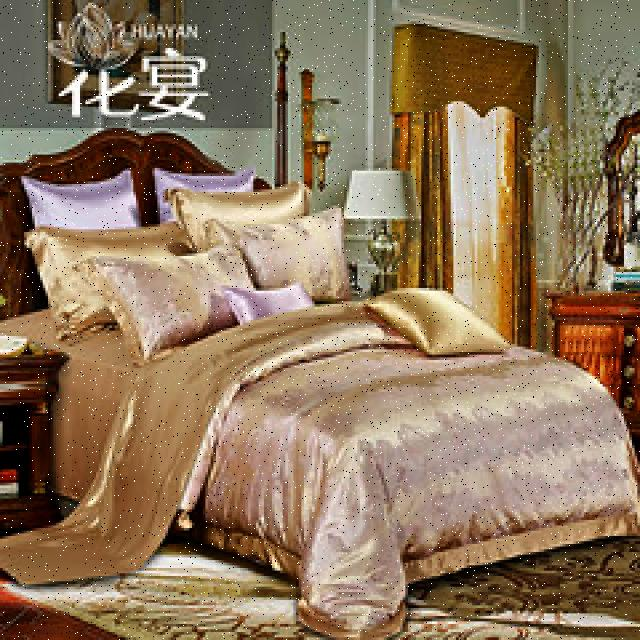bed: (4, 140, 632, 586)
